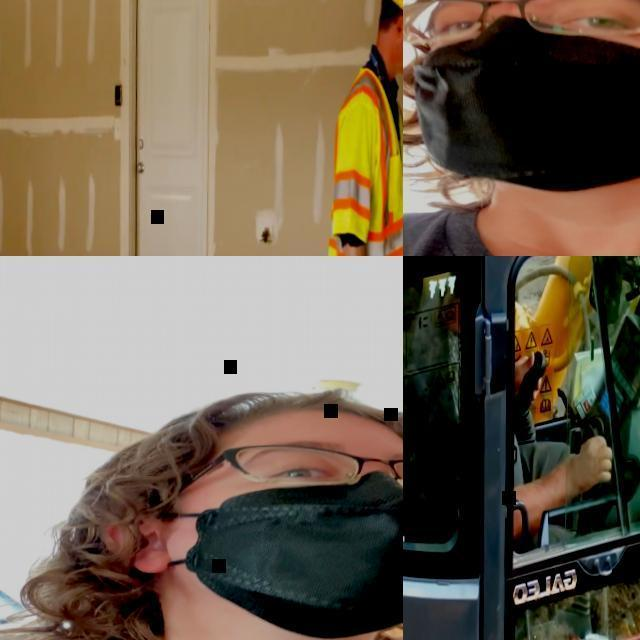no_helmet: (134, 387, 403, 640), (417, 0, 640, 190)
